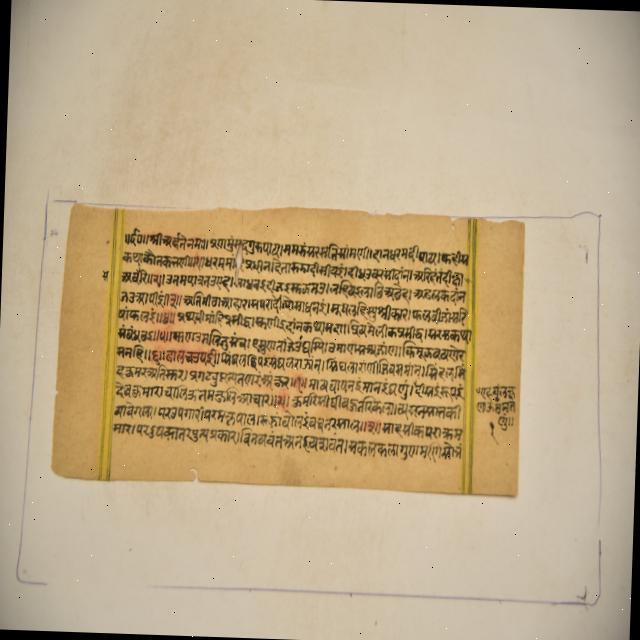text_paragraph: (52, 202, 522, 498)
